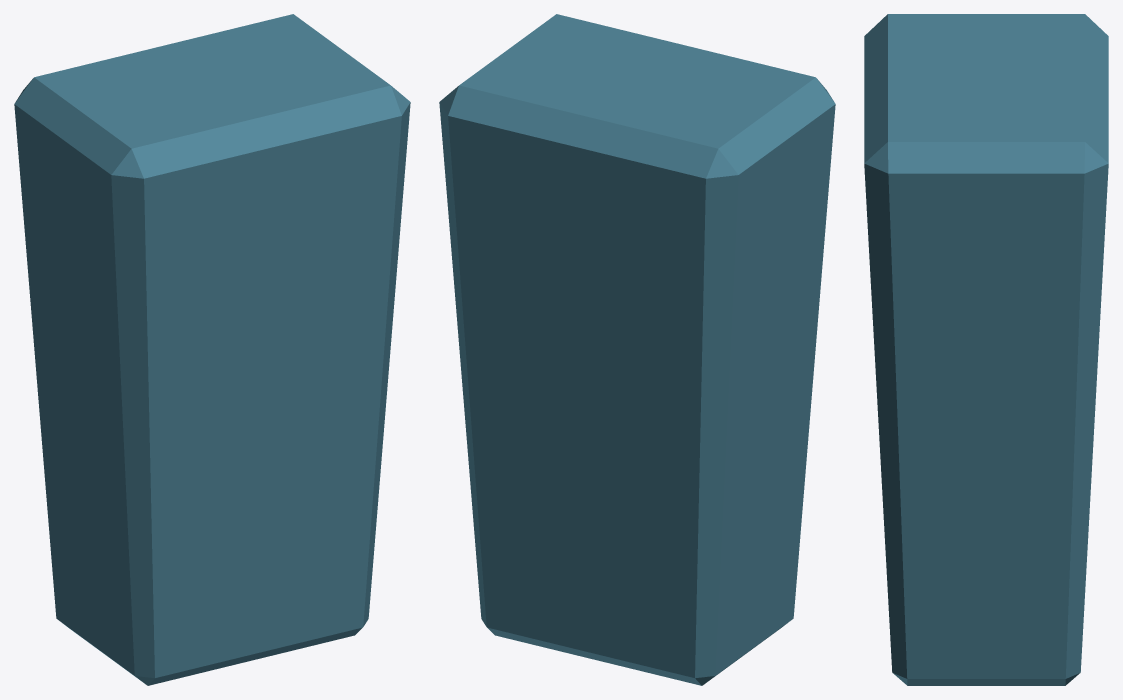
File: SM_LP_RefinedMineral_3.fbx
3 renders of one model, left to right at view 1: azimuth 30°, elevation 25°; view 2: azimuth 150°, elevation 25°; view 3: azimuth 270°, elevation 25°, orthographic.
Visible parts, largest first — view 1: SM_LP_RefinedMineral_3; view 2: SM_LP_RefinedMineral_3; view 3: SM_LP_RefinedMineral_3.
Boxes of the visible parts, x1,y1,x2,y2 form: SM_LP_RefinedMineral_3: [14, 14, 410, 685]; SM_LP_RefinedMineral_3: [439, 14, 835, 685]; SM_LP_RefinedMineral_3: [864, 14, 1108, 685].
Size of the model in its own units: 0.2403 by 0.4225 by 0.1682.
